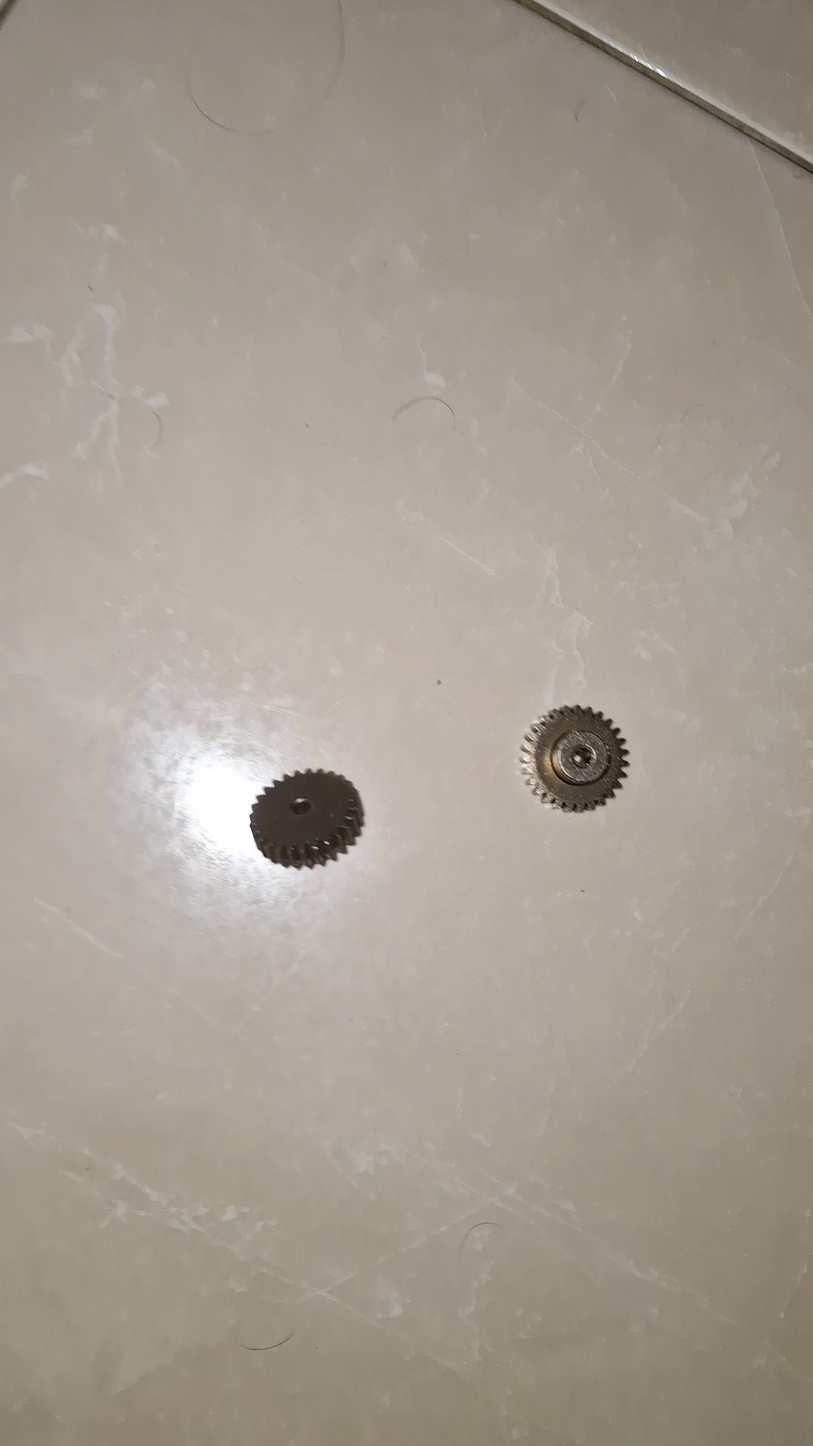spur gear: (521, 706, 628, 811), (250, 771, 363, 868)
